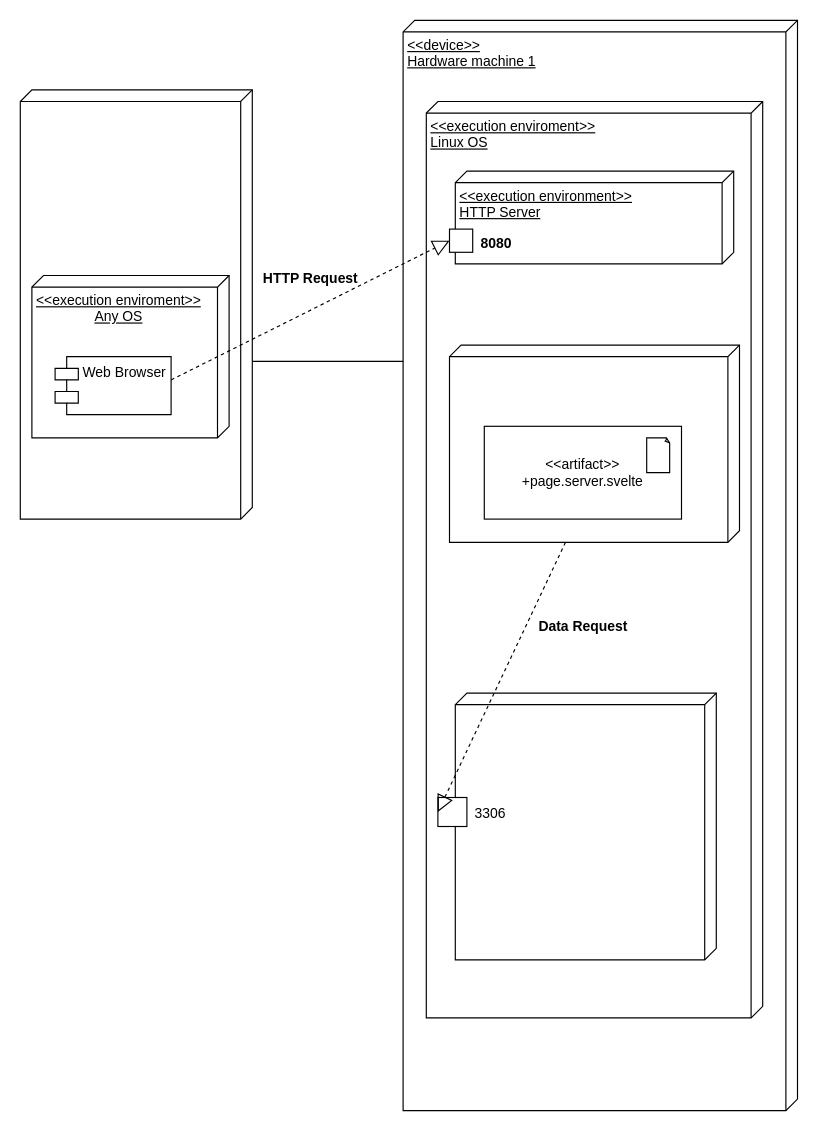
Image size: 818x1131. Some labels were removed from this diagram. Here are the shapes that lost their labels. From the top down, the box of each, then its label:
(19, 89, 252, 519): <<device>> Client device
(448, 344, 740, 542): <<execution enviroment>> WebLogic Server
(454, 692, 716, 960): <<execution environment>> MySql Database
